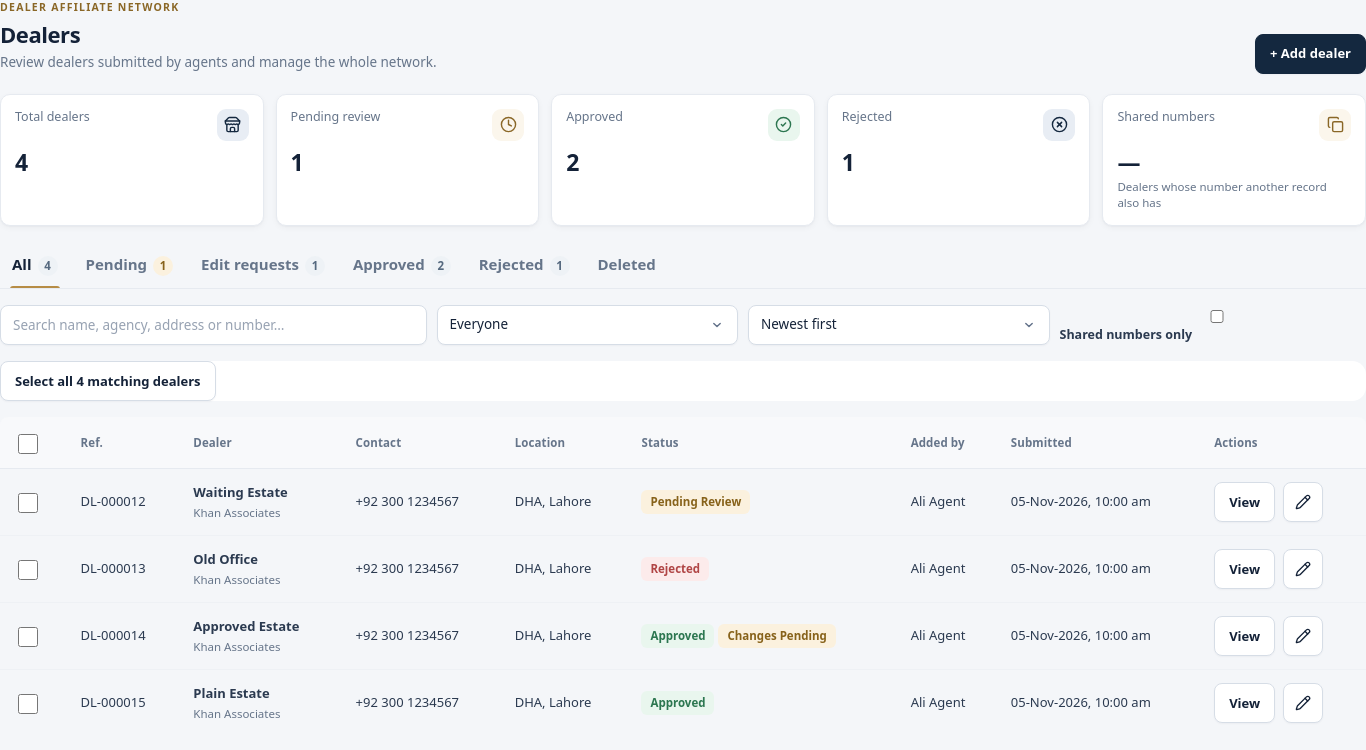
Test case: an administrator's review of an edit request › shows the agent, when, and Before → After, and approves the version reviewed
The image size is (1366, 750).
Click the button with aria-label "View Approved Estate" at (1245, 636), box [1214, 616, 1275, 656]
(page scrolled)
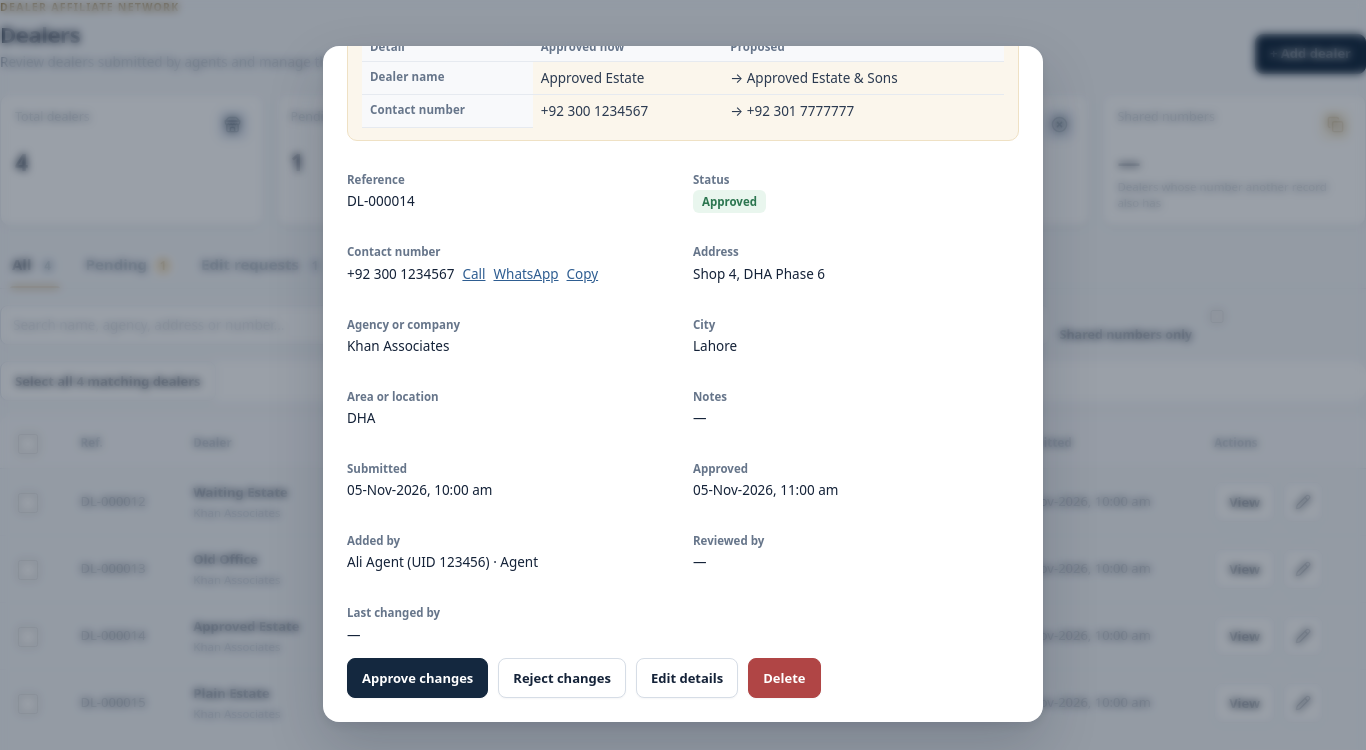
Click the button "Approve changes" at (418, 678), box [347, 658, 488, 698]
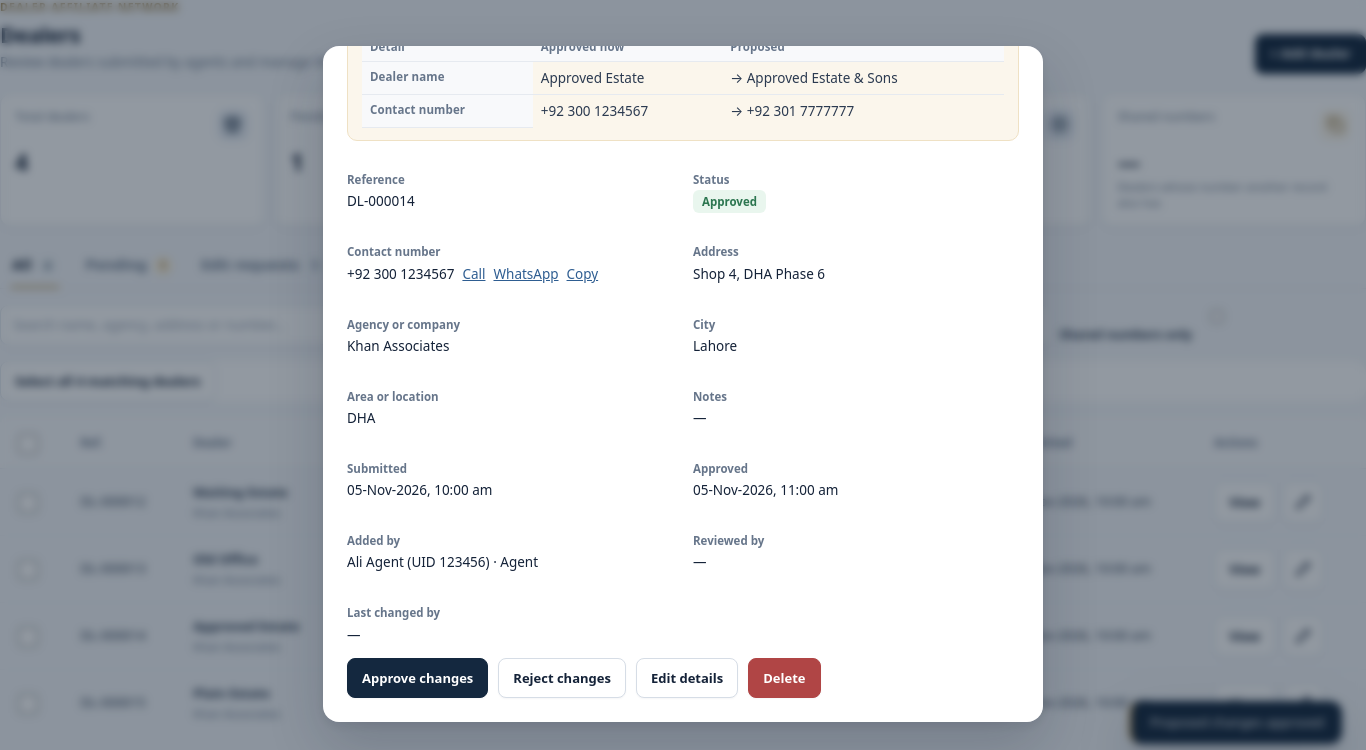
expect the text "Proposed changes approved" is shown: met, box [1129, 700, 1342, 744]
